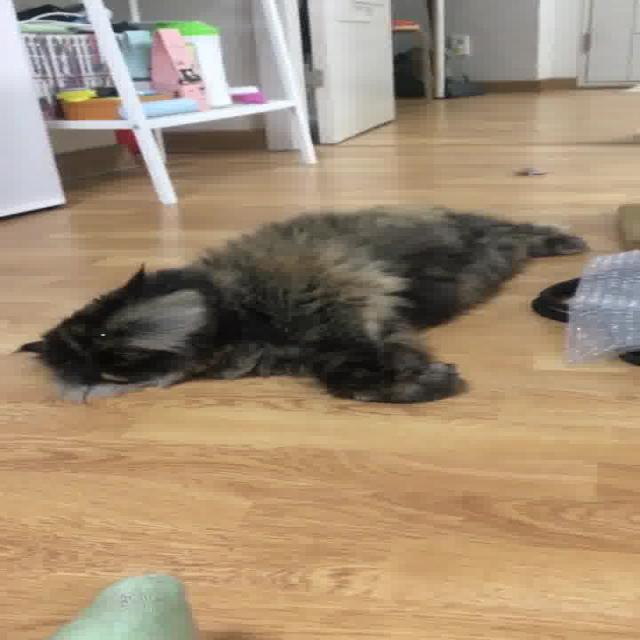cat: (8, 192, 602, 412)
